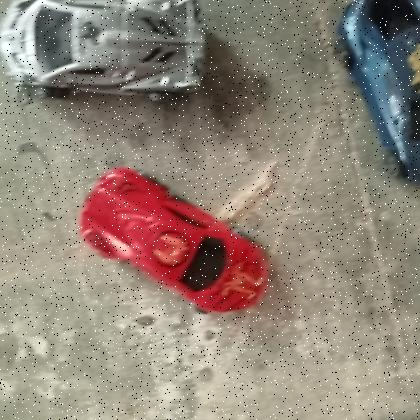Car: (77, 166, 270, 313)
